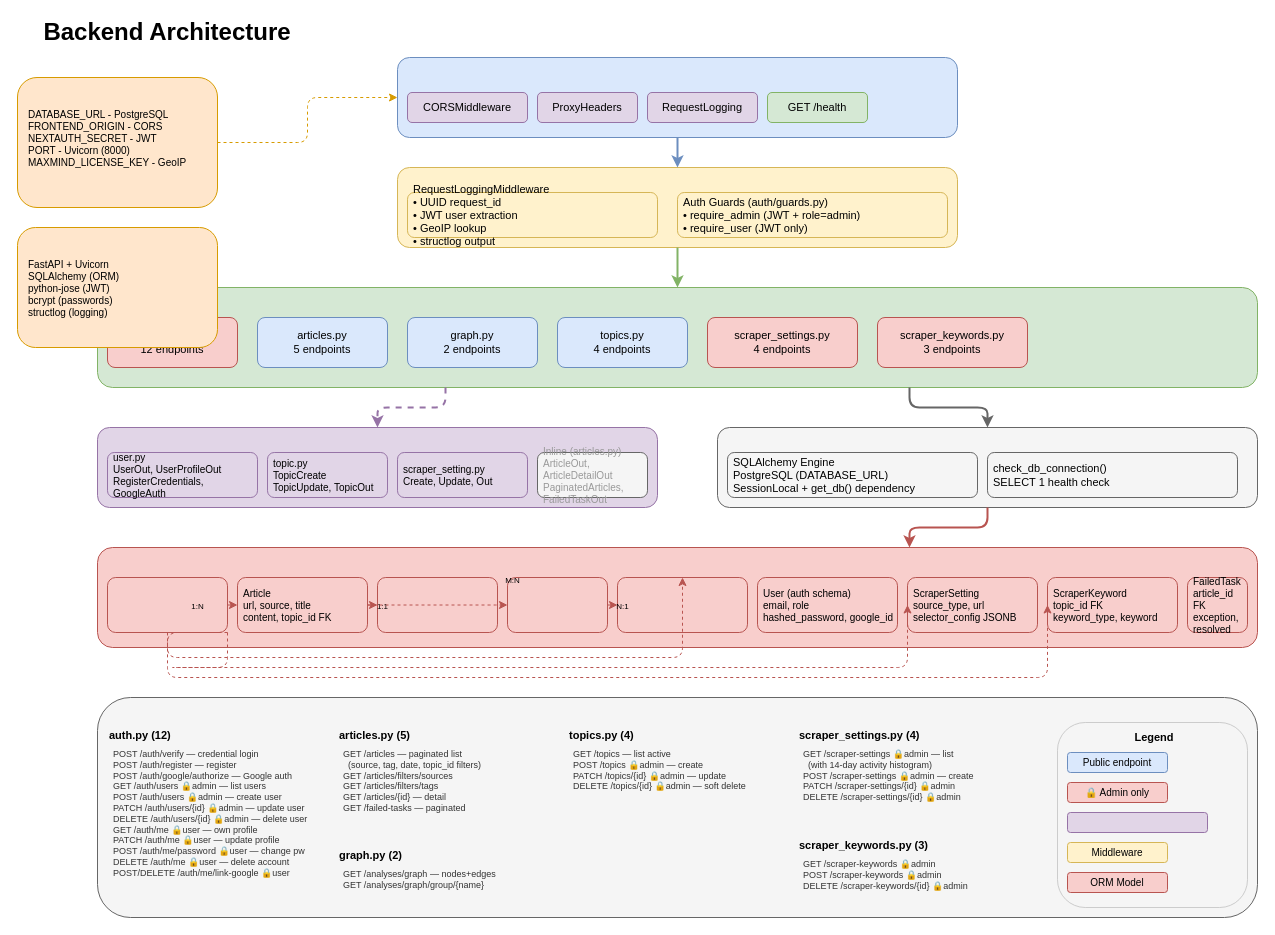
Some shapes in this 1275 by 935 pixel diagram are drawn without their labels. Here are the shapes that lost their labels. From the top down, the box of each, then its label:
(396, 56, 958, 138): FastAPI App (main.py)
(16, 76, 218, 208): Environment Variables
(396, 166, 958, 248): Middleware Layer
(16, 226, 218, 348): External Dependencies
(96, 286, 1258, 388): Routers Layer
(96, 426, 658, 508): Pydantic Schemas (schemas/)
(716, 426, 1258, 508): Database Layer (database.py)
(106, 576, 228, 632): Topic name, display_name color, is_active
(376, 576, 498, 632): Analysis article_id FK pain_points, insights
(506, 576, 608, 632): Tag name tag_group_name
(96, 546, 1258, 648): ORM Models (models/)
(616, 576, 748, 632): TagGroupDefinition display_name, color topic_id FK
(96, 696, 1258, 918): API Endpoints (30 total)
(1066, 812, 1208, 832): 🔒 User (authenticated)
